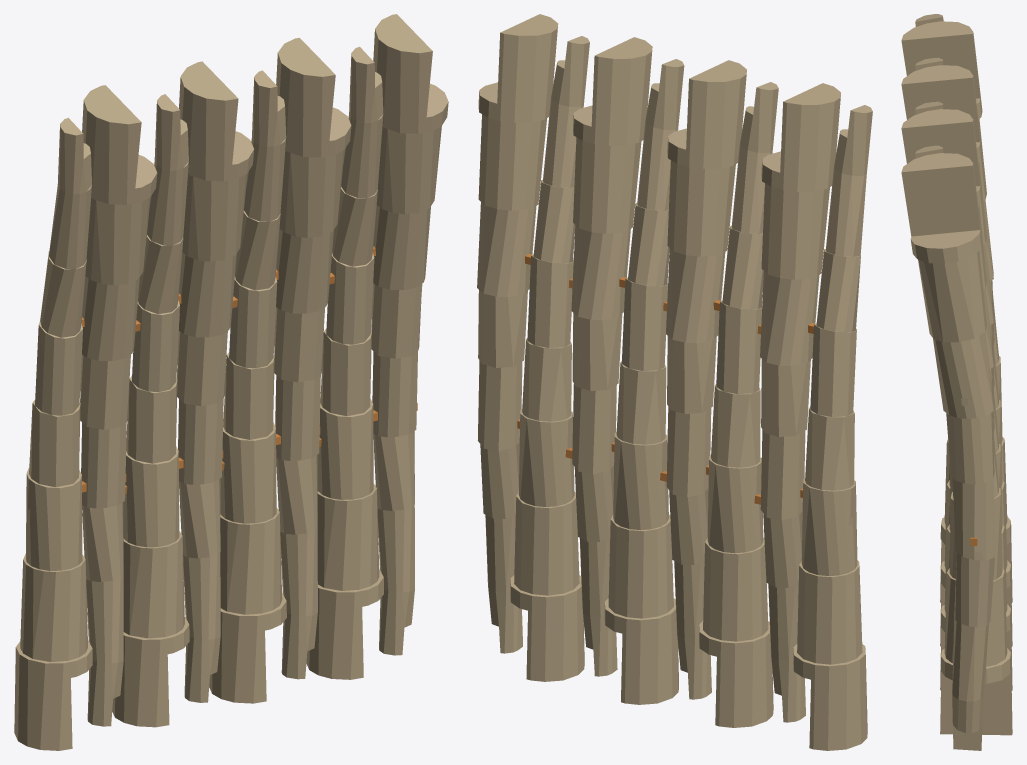
The model's file is wall1.fbx.
3 views of the same model, side by side, from view 1: azimuth 30°, elevation 25°; view 2: azimuth 150°, elevation 25°; view 3: azimuth 270°, elevation 25° (orthographic). The views are drawn at different scales.
Parts seen in each view (by area): view 1: branch1, branch5, branch7, branch4, branch2, branch6, branch3, branch8; view 2: branch1, branch5, branch7, branch3, branch8, branch2, branch6, branch4; view 3: branch8, branch7, branch4, branch6, branch2, branch5, branch3, branch1.
Boxes of the visible parts, x1=… form: branch1: x1=14, y1=117, x2=92, y2=750; branch5: x1=209, y1=70, x2=286, y2=703; branch7: x1=306, y1=46, x2=383, y2=679; branch4: x1=177, y1=61, x2=254, y2=702; branch2: x1=80, y1=85, x2=157, y2=726; branch6: x1=274, y1=37, x2=351, y2=679; branch3: x1=112, y1=94, x2=189, y2=727; branch8: x1=371, y1=14, x2=448, y2=655; branch1: x1=793, y1=105, x2=872, y2=750; branch5: x1=604, y1=59, x2=684, y2=704; branch7: x1=510, y1=36, x2=589, y2=681; branch3: x1=699, y1=82, x2=778, y2=727; branch8: x1=477, y1=14, x2=558, y2=653; branch2: x1=760, y1=83, x2=840, y2=722; branch6: x1=571, y1=37, x2=652, y2=676; branch4: x1=666, y1=60, x2=746, y2=699; branch8: x1=901, y1=153, x2=995, y2=750; branch7: x1=915, y1=145, x2=1012, y2=735; branch4: x1=901, y1=65, x2=994, y2=388; branch6: x1=901, y1=109, x2=994, y2=432; branch2: x1=901, y1=21, x2=994, y2=344; branch5: x1=915, y1=101, x2=1012, y2=690; branch3: x1=915, y1=57, x2=1012, y2=646; branch1: x1=915, y1=14, x2=1012, y2=603.
Size of the model in its own units: 255 by 382 by 65.01.
